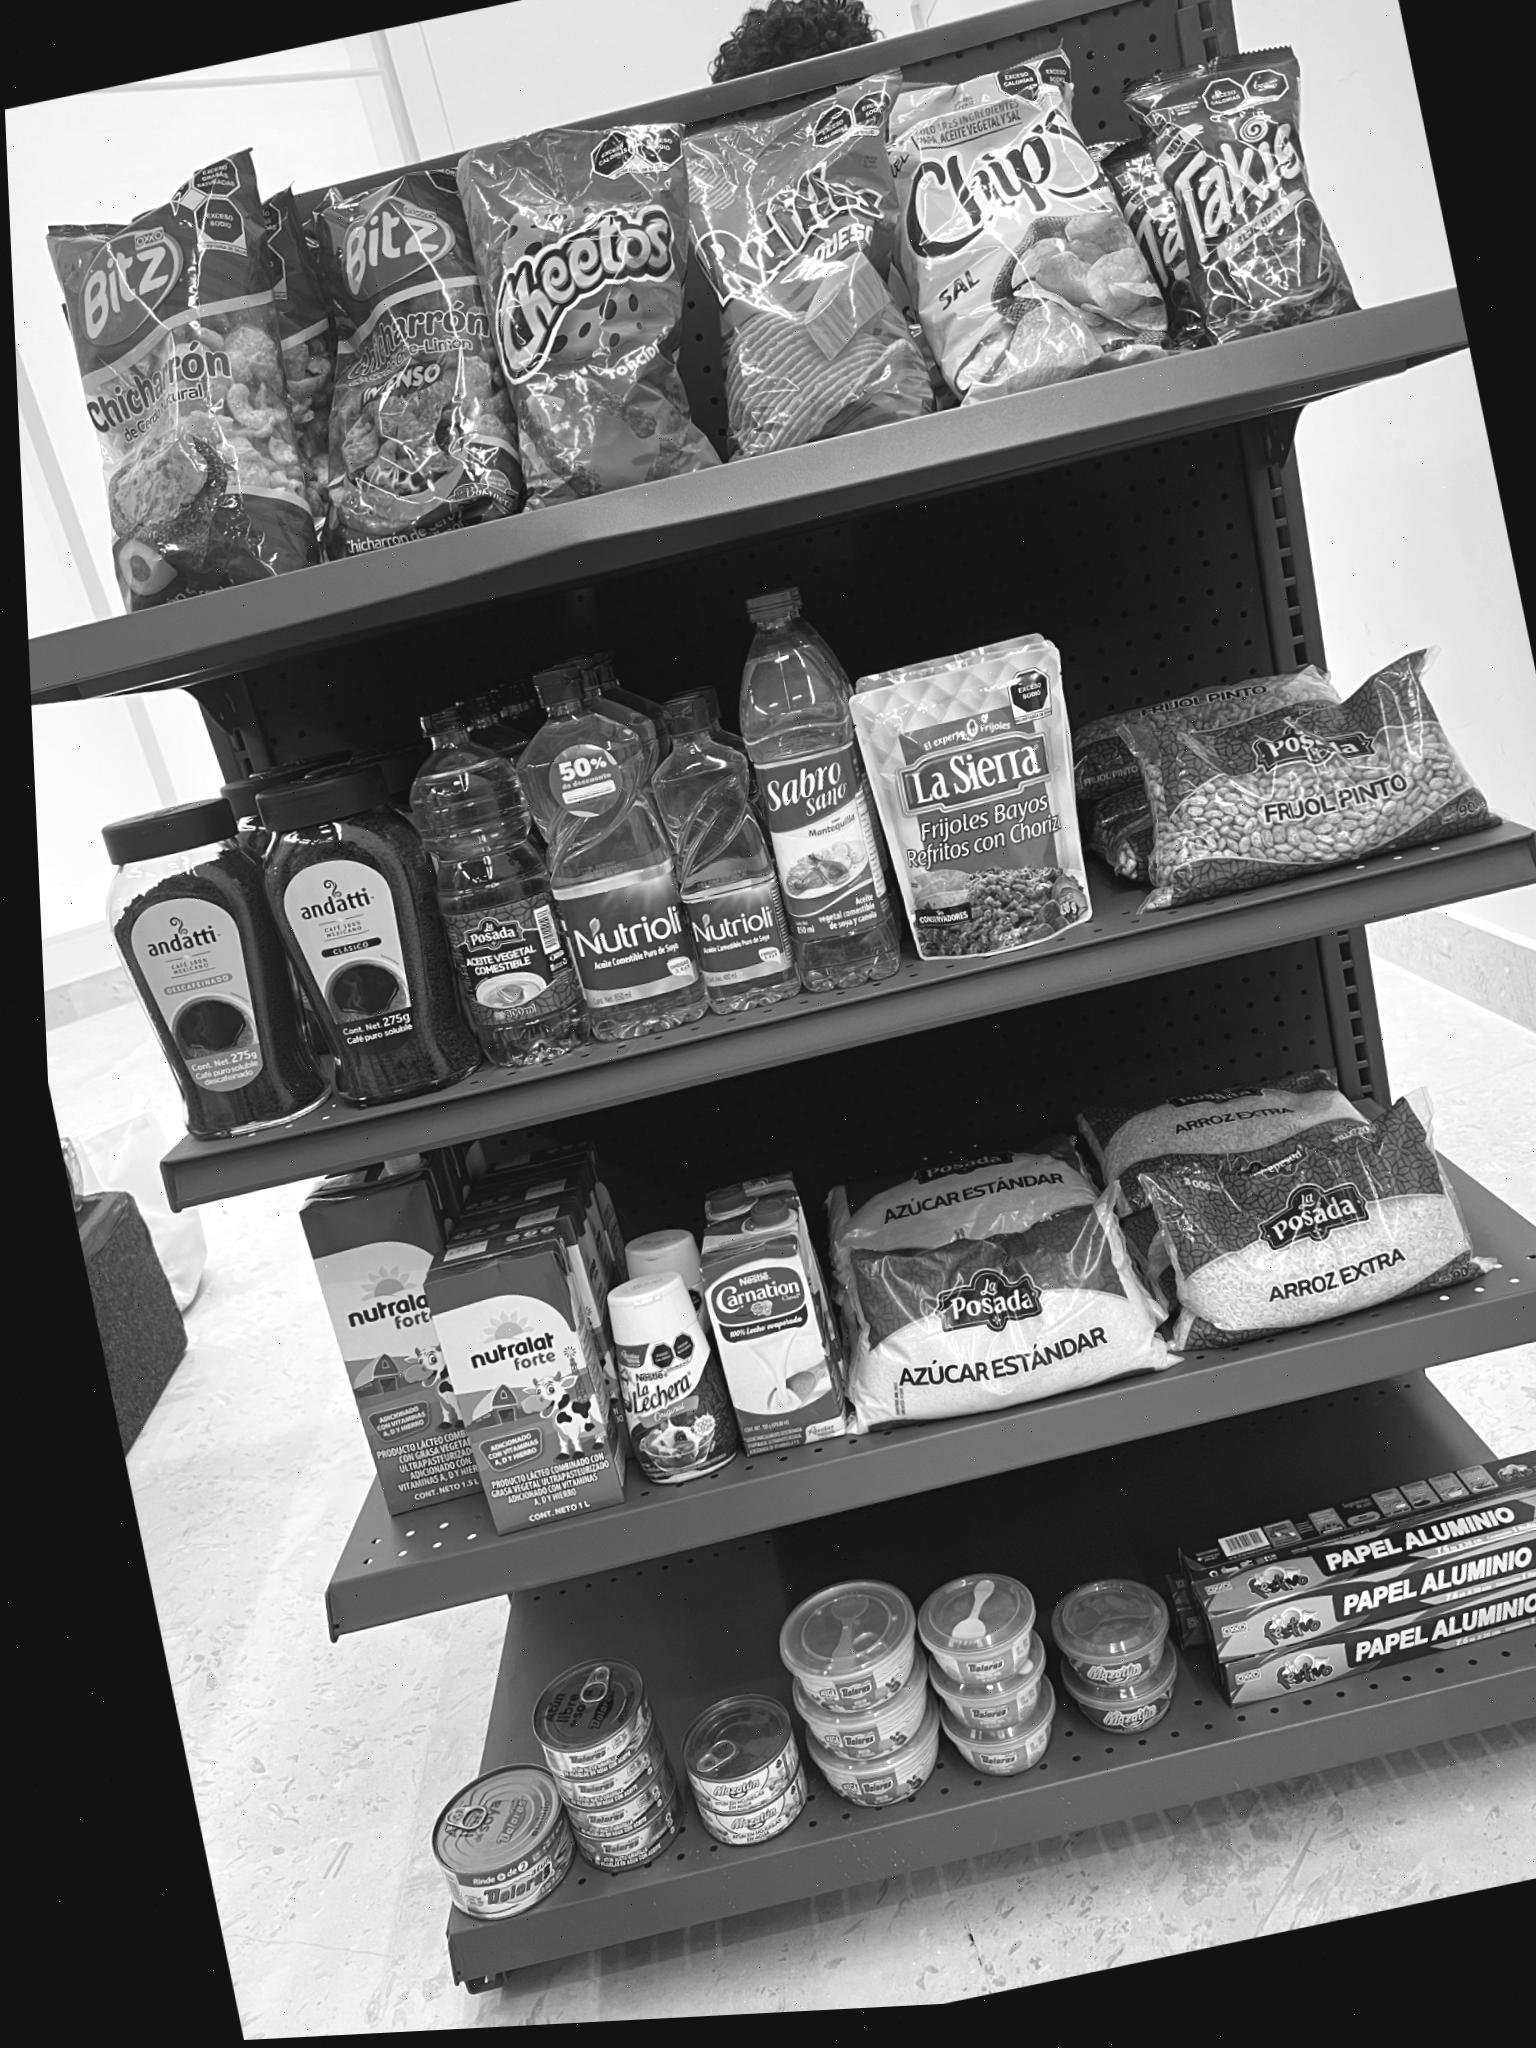aceite_nutrioli_400ml: (631, 681, 805, 1022)
aceite_nutrioli_850ml: (503, 634, 708, 1055)
aceite_posada: (392, 682, 579, 1079)
aceite_saborsano: (712, 574, 902, 1000)
andatti: (84, 777, 316, 1151), (253, 748, 471, 1119)
arroz_laposada: (1133, 1103, 1489, 1351)
atun_dolores_blanco: (760, 1563, 954, 1824)
atun_dolores_masdos: (411, 1750, 584, 1932)
atun_dolores_naranja: (907, 1559, 1068, 1792)
atun_dolores_normal: (518, 1638, 697, 1890)
atun_mazatun: (668, 1684, 818, 1854)
atun_mazatun_verde: (1039, 1563, 1192, 1750)
azucar_laposada: (821, 1176, 1173, 1435)
carnation: (679, 1193, 854, 1463)
cheetos: (452, 97, 737, 508)
chicharron_bitz_intenso: (278, 153, 524, 556)
chicharron_bitz_natural: (21, 132, 342, 621)
chips_sal: (874, 26, 1176, 410)
frijol_laposada: (1102, 643, 1501, 908)
frijol_lasierra: (842, 647, 1117, 974)
lalechera: (594, 1258, 741, 1490)
leche_nutralatforte: (287, 1169, 476, 1527), (418, 1235, 631, 1543)
papel_aluminio: (1191, 1505, 1536, 1714)
ruffles: (674, 81, 945, 453)
takis: (1125, 32, 1365, 348)
